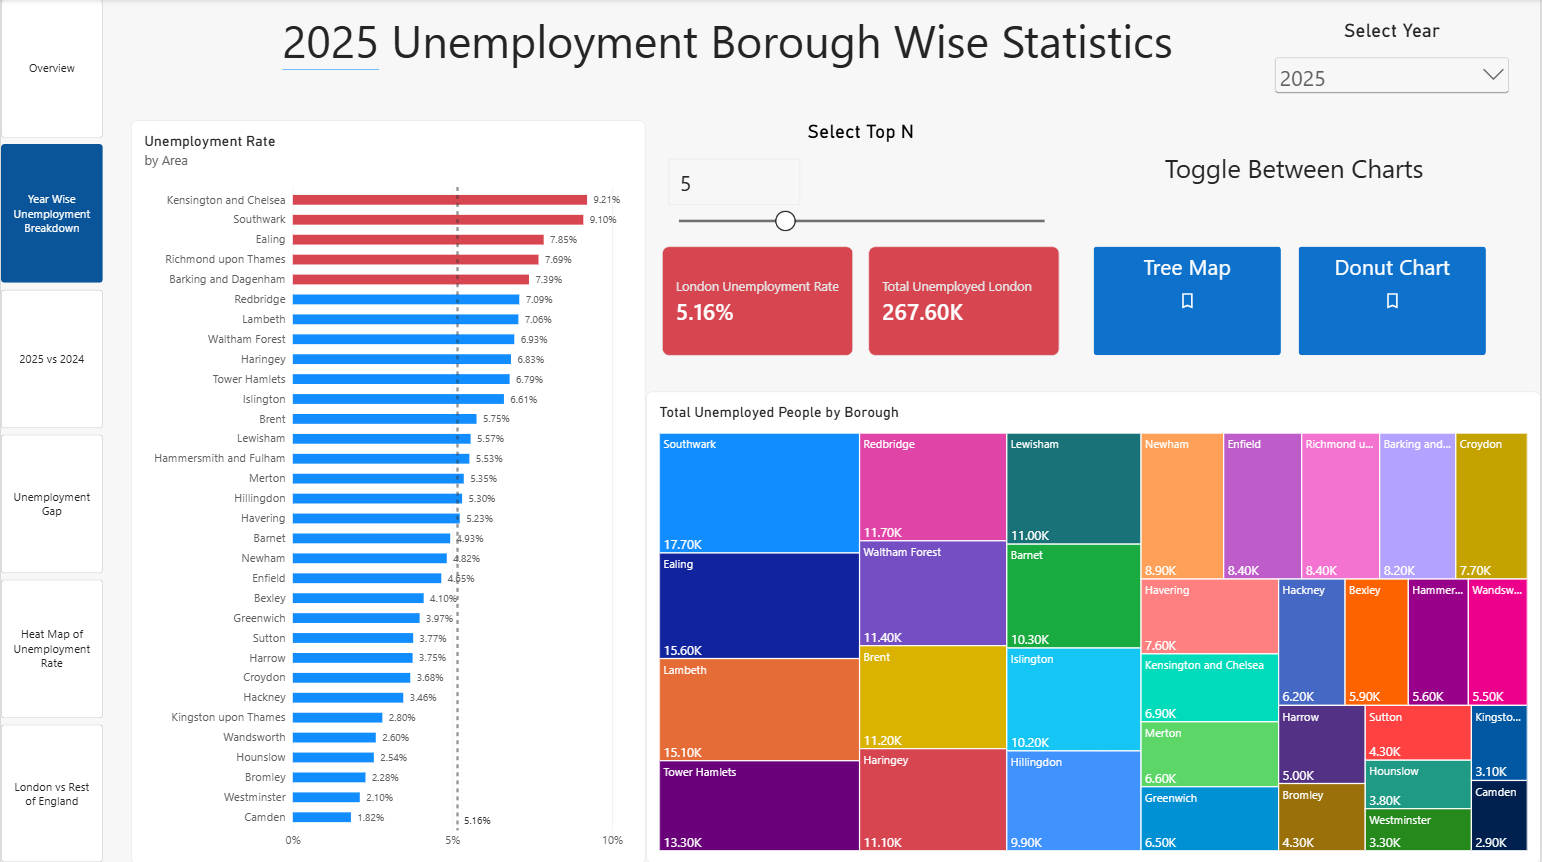

This screenshot's page, from the dashboard's own definition file:
{"tool":"powerbi","page":{"name":"Year Wise Unemployment Breakdown","canvas":[1920,1080],"ordinal":1},"visuals":[{"type":"clusteredBarChart","fields":{"Category":["All_data.Area"],"Y":["All_data.Unemployment Rate"]},"box":[162.2,151.7,641.9,929.7],"z":0},{"type":"slicer","title":"Select Year","fields":{"Values":["Date Table.Year"]},"box":[1583.7,24.4,301.7,97.7],"z":1000},{"type":"cardVisual","fields":{"Data":["All_data.London year wise unemployment"]},"box":[825,308.7,239,136],"z":2000},{"type":"treemap","title":"Total Unemployed People by Borough","fields":{"Group":["All_data.Area"],"Values":["All_data.Total Unemployed"]},"box":[804.1,490.1,1116.3,589.5],"z":3000},{"type":"slicer","title":"Select Top N","fields":{"Values":["Top ?.Top ?"]},"box":[825,151.7,495.4,157],"z":4000},{"type":"textbox","box":[350.6,12.2,1191.3,83.7],"z":5000},{"type":"pageNavigator","box":[0,0,127.6,1080.6],"z":6000},{"type":"cardVisual","fields":{"Data":["All_data.Total Unemployed London"]},"box":[1081.4,308.7,239,136],"z":7000},{"type":"actionButton","box":[1362.5,308.7,233.8,135.6],"z":9000},{"type":"actionButton","box":[1618.1,308.7,233.8,135.6],"z":10000},{"type":"textbox","box":[1451.3,188.6,333.6,54.6],"z":11000}]}

Visuals, with their boxes on the page's 1920x1080 design canvas (x1, y1, x2, y2). These are canvas units, not pixel positions in the 1542x862 screenshot, which may show the page scaled, cropped or inside an application window:
clusteredBarChart - All_data.Area x All_data.Unemployment Rate: rect(162, 152, 804, 1081)
"Select Year" slicer: rect(1584, 24, 1885, 122)
cardVisual - All_data.London year wise unemployment: rect(825, 309, 1064, 445)
"Total Unemployed People by Borough" treemap: rect(804, 490, 1920, 1080)
"Select Top N" slicer: rect(825, 152, 1320, 309)
textbox: rect(351, 12, 1542, 96)
pageNavigator: rect(0, 0, 128, 1081)
cardVisual - All_data.Total Unemployed London: rect(1081, 309, 1320, 445)
actionButton: rect(1362, 309, 1596, 444)
actionButton: rect(1618, 309, 1852, 444)
textbox: rect(1451, 189, 1785, 243)
